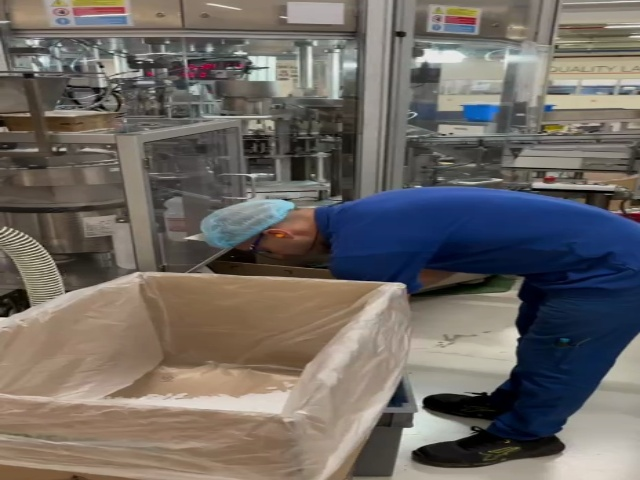Earplug: (264, 229, 295, 244)
Hairnet: (200, 198, 288, 248)
No_Helmet: (202, 199, 299, 249)
No_Vest: (314, 185, 640, 286)
Person: (193, 189, 640, 468)
Safety_Goggles: (239, 229, 268, 254)
